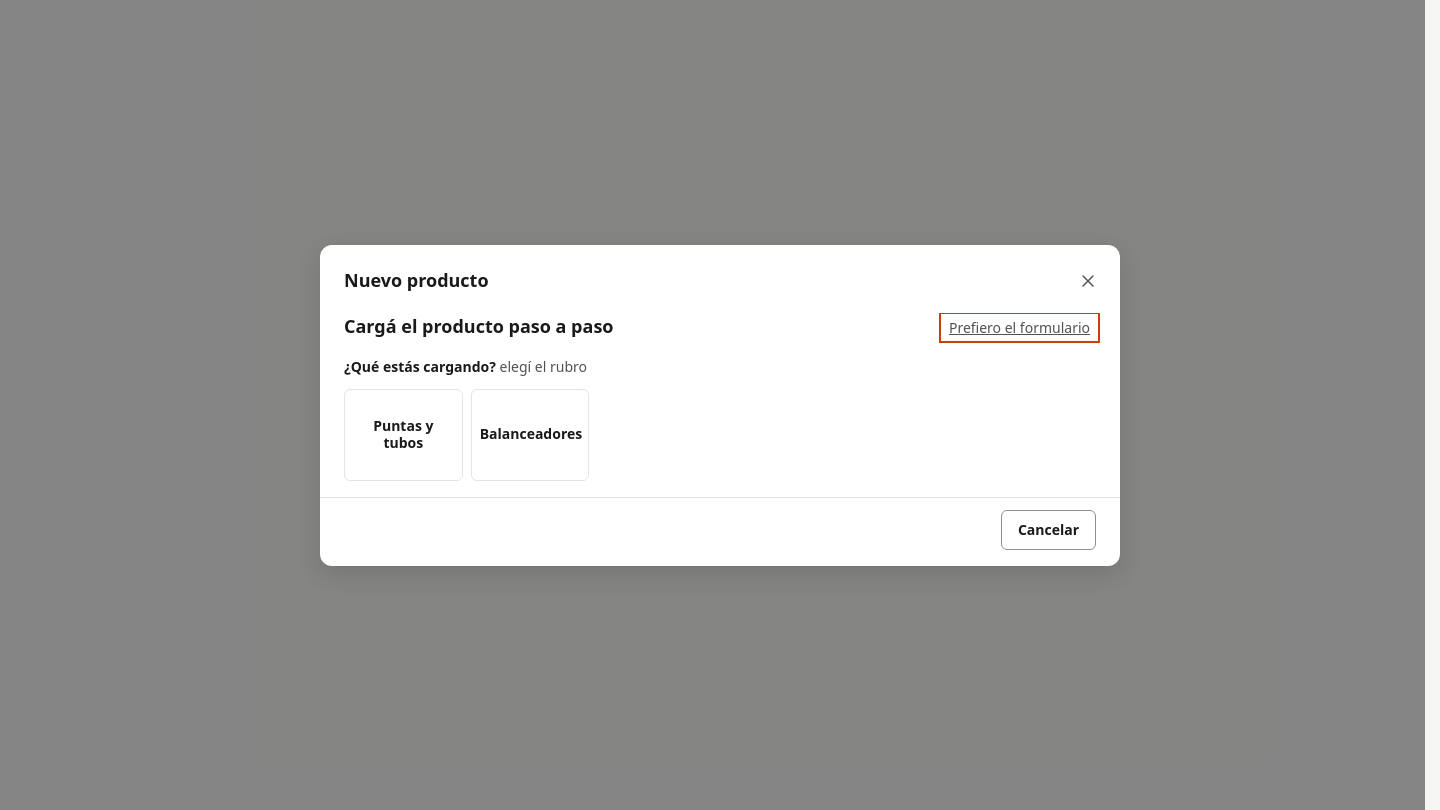
Scenario: Los atributos dependen de la categoría › sin categoría elegida no hay campos de atributos, y se dice por qué
Click the button "Prefiero el formulario".
click(1019, 327)  # box [943,316,1096,338]
(page scrolled)
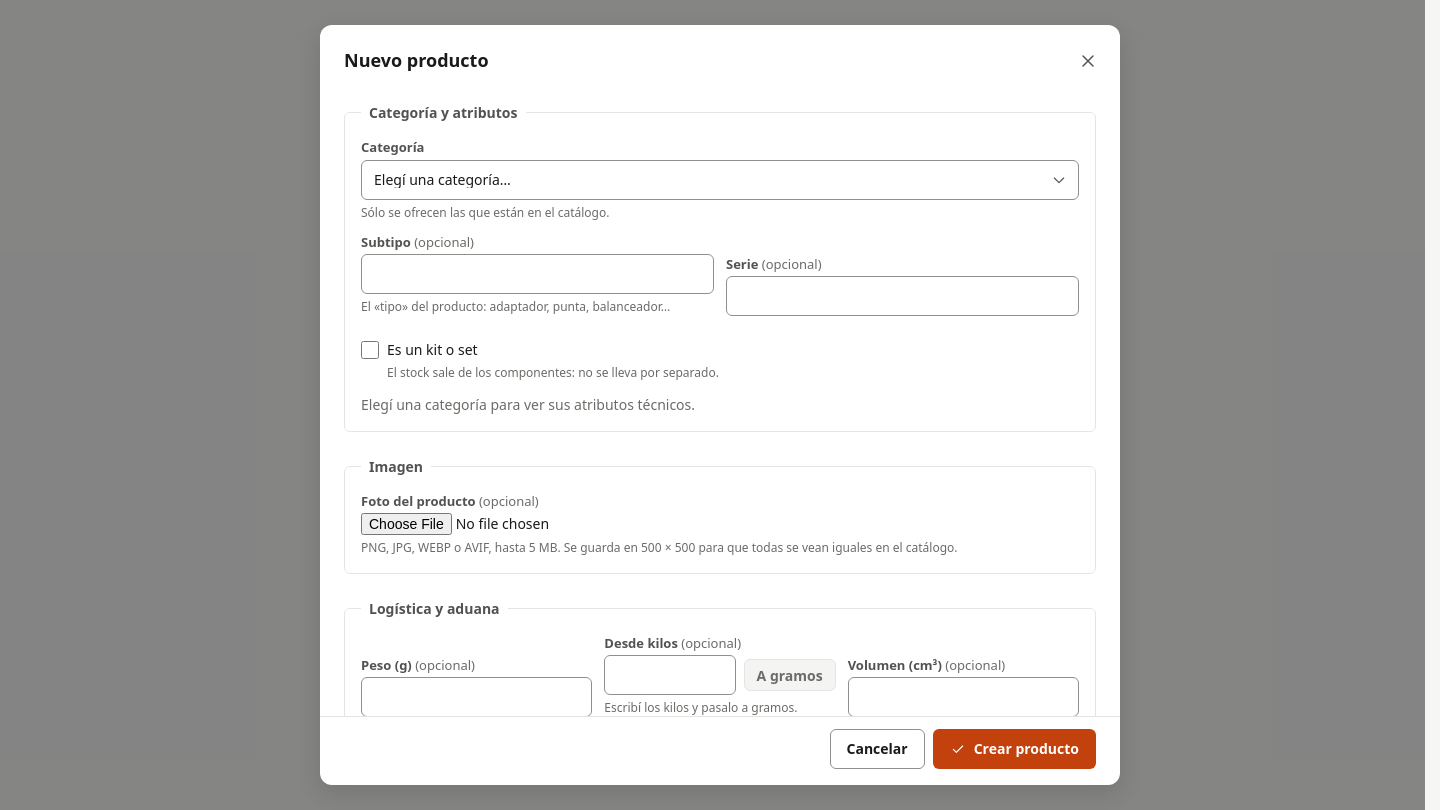
Check: the text "Elegí una categoría para ver sus atributos técnicos." is shown, box [361,395,695,414]
